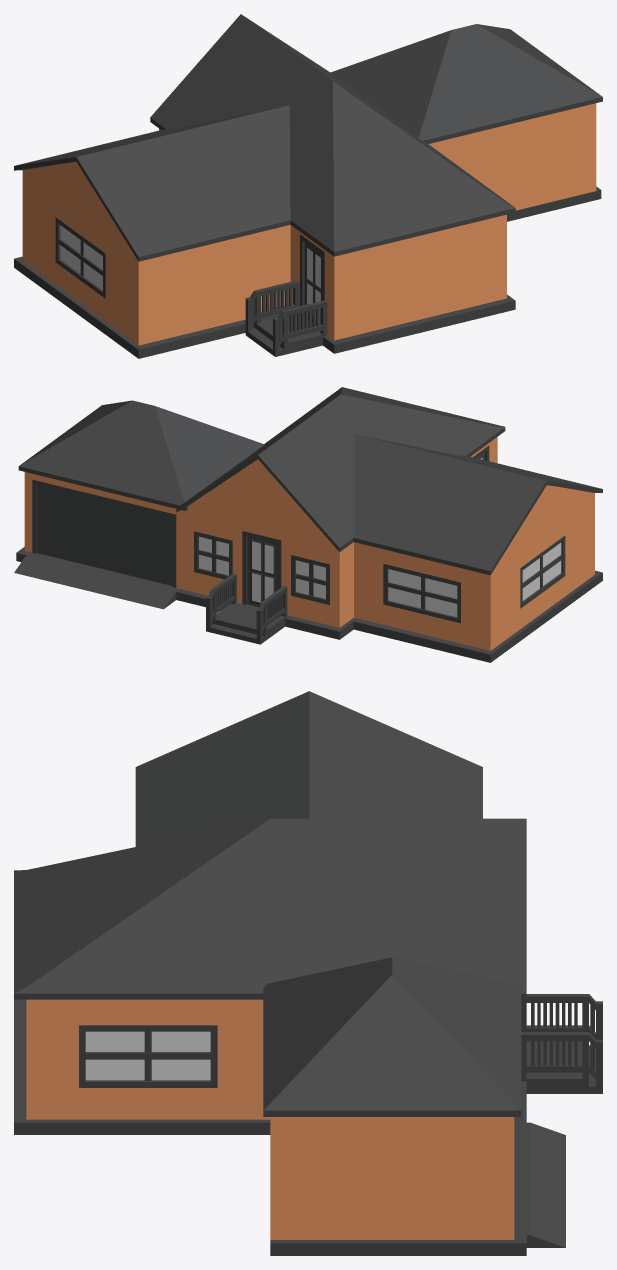
Rendered from House #26.fbx.
The picture shows the model from 3 angles, top to bottom: view 1: azimuth 30°, elevation 25°; view 2: azimuth 150°, elevation 25°; view 3: azimuth 270°, elevation 25°; orthographic projection. The views are drawn at different scales.
Parts seen in each view (by area): view 1: building_001; view 2: building_001; view 3: building_001.
Part boxes in pixels (<box>): building_001: <box>14,14,602,358</box>; building_001: <box>14,387,602,662</box>; building_001: <box>14,691,602,1255</box>.
Size of the model in its own units: 1183 by 405 by 848.
